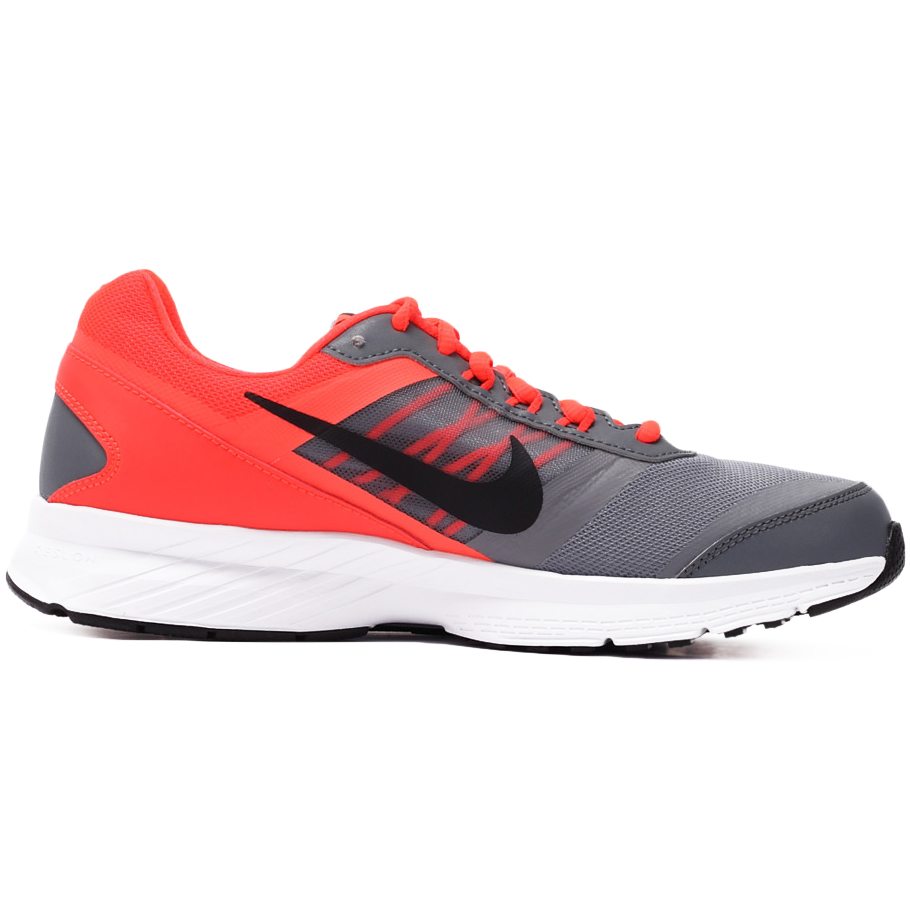Nike: (237, 383, 548, 539)
